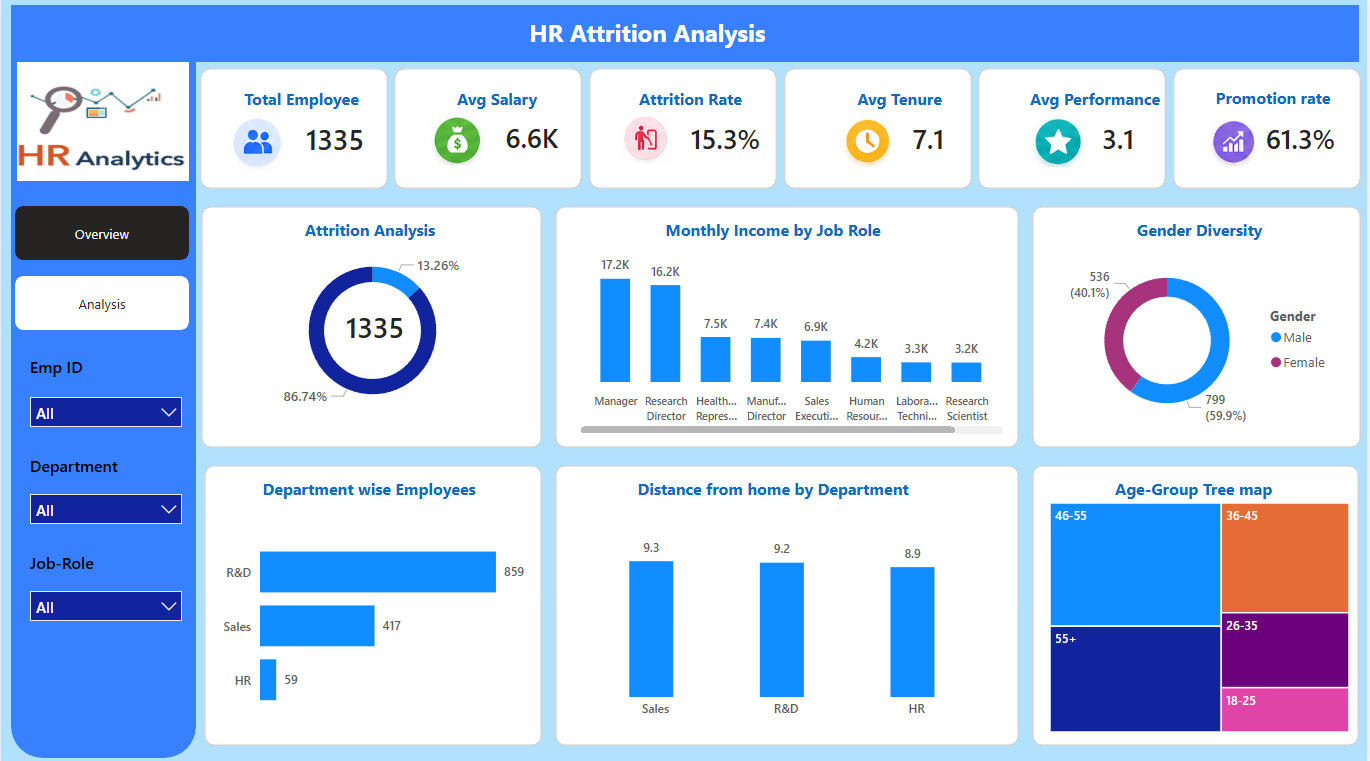

The page's visual inventory and layout, read from the dashboard file:
{"tool":"powerbi","page":{"name":"Overview ","canvas":[1366,768],"ordinal":0},"visuals":[{"type":"shape","box":[10,7,1348,57],"z":0},{"type":"shape","box":[10,63.6,184.5,696.4],"z":1000},{"type":"shape","box":[554,467,464,281],"z":2000},{"type":"textbox","box":[433.6,12.7,431.8,45.5],"z":3000},{"type":"shape","box":[198.5,70,188.2,120.9],"z":4000},{"type":"cardVisual","fields":{"Data":["Measure..Total Employee"]},"box":[281.8,110.9,104.5,56.4],"z":5000},{"type":"textbox","box":[214.5,84.5,171.8,31.8],"z":6000},{"type":"image","box":[227.3,116.4,59.1,56.4],"z":7000},{"type":"shape","box":[393.2,70,188.2,120.9],"z":8000},{"type":"cardVisual","fields":{"Data":["Measure..Avg Salary"]},"box":[483.6,103.6,90,68.2],"z":9000},{"type":"textbox","box":[410,84.5,171.8,31.8],"z":10000},{"type":"image","box":[429.1,116.4,54.5,52.7],"z":11000},{"type":"shape","box":[587.9,70,188.2,120.9],"z":12000},{"type":"cardVisual","fields":{"Data":["Measure..Attrition rate"]},"box":[671.7,110.9,104.5,56.4],"z":13000},{"type":"textbox","box":[602.6,84.5,173.6,31.8],"z":14000},{"type":"image","box":[618.1,116.4,53.6,50.9],"z":15000},{"type":"shape","box":[782.6,70,188.2,120.9],"z":16000},{"type":"cardVisual","fields":{"Data":["Measure..Avg Employee Tenure"]},"box":[891.8,112.7,68.2,50.9],"z":17000},{"type":"textbox","box":[811.8,84.5,173.6,31.8],"z":18000},{"type":"image","box":[839.1,120,52.7,48.2],"z":19000},{"type":"shape","box":[977.3,70,188.2,120.9],"z":20000},{"type":"cardVisual","fields":{"Data":["Measure..Avg Performance rating"]},"box":[1069,113,81,51],"z":21000},{"type":"textbox","box":[1007,85,174,35],"z":22000},{"type":"image","box":[1031,121,53,48],"z":23000},{"type":"shape","box":[1171.8,70,188.2,120.9],"z":24000},{"type":"cardVisual","fields":{"Data":["Measure..Promotion rate"]},"box":[1240,113,111,51],"z":25000},{"type":"textbox","box":[1185,84,174,35],"z":26000},{"type":"shape","box":[200,207.7,341,242],"z":27000},{"type":"image","box":[1206,120,53,48],"z":28000},{"type":"donutChart","fields":{"Y":["Measure..Attrition","Measure..Total Employee"]},"box":[214,244,315,177],"z":29000},{"type":"textbox","box":[282,216,174,35],"z":30000},{"type":"cardVisual","fields":{"Data":["Measure..Total Employee"]},"box":[327,305,94,45],"z":31000},{"type":"shape","box":[554,207.7,464,242],"z":32000},{"type":"columnChart","fields":{"Y":["Avg(hr_attrition_db hr_data_clean.MonthlyIncome)"],"Category":["hr_attrition_db hr_data_clean.JobRole"]},"box":[565,244,442,197],"z":33000},{"type":"textbox","box":[618,216,308,35],"z":34000},{"type":"shape","box":[1031,207.7,329,242],"z":35000},{"type":"donutChart","fields":{"Category":["hr_attrition_db hr_data_clean.Gender"],"Y":["CountNonNull(hr_attrition_db hr_data_clean.Gender)"]},"box":[1058,244,282,197],"z":36000},{"type":"textbox","box":[1071,216,255,35],"z":37000},{"type":"shape","box":[1031,467,327,281],"z":38000},{"type":"treemap","fields":{"Group":["hr_attrition_db hr_data_clean.AgeGroup"],"Values":["Avg(hr_attrition_db hr_data_clean.MonthlyIncome)"]},"box":[1044,500,309,239],"z":39000},{"type":"textbox","box":[1059,475,267,35],"z":40000},{"type":"columnChart","fields":{"Category":["hr_attrition_db hr_data_clean.Department"],"Y":["Measure..Avg Distance from home"]},"box":[571,527,428,202],"z":41000},{"type":"textbox","box":[615,475,314,35],"z":42000},{"type":"shape","box":[203,467,338,281],"z":43000},{"type":"barChart","fields":{"Category":["hr_attrition_db hr_data_clean.Department"],"Y":["CountNonNull(hr_attrition_db hr_data_clean.EmpID)"]},"box":[216,519,313,212],"z":44000},{"type":"textbox","box":[224,475,288,35],"z":45000},{"type":"pageNavigator","box":[14,208,174,124],"z":46000},{"type":"image","box":[16,64,172,119],"z":47000},{"type":"textbox","box":[24,353,156,34],"z":48000},{"type":"slicer","fields":{"Values":["hr_attrition_db hr_data_clean.Department"]},"box":[19,486,172,45],"z":49000},{"type":"textbox","box":[24,452,166,32],"z":50000},{"type":"slicer","fields":{"Values":["hr_attrition_db hr_data_clean.JobLevel"]},"box":[19,583,172,45],"z":51000},{"type":"textbox","box":[24,549,166,32],"z":52000},{"type":"slicer","fields":{"Values":["hr_attrition_db hr_data_clean.EmpID"]},"box":[19,389,172,45],"z":53000}]}

Visuals, with their boxes in screenshot pixels (x1, y1, x2, y2), scaled from the page's 1366x768 canvas onto the 1370x761 screenshot:
shape: l=10, t=7, r=1362, b=63
shape: l=10, t=63, r=195, b=753
shape: l=556, t=463, r=1021, b=741
textbox: l=435, t=13, r=868, b=58
shape: l=199, t=69, r=388, b=189
cardVisual - Measure..Total Employee: l=283, t=110, r=387, b=166
textbox: l=215, t=84, r=387, b=115
image: l=228, t=115, r=287, b=171
shape: l=394, t=69, r=583, b=189
cardVisual - Measure..Avg Salary: l=485, t=103, r=575, b=170
textbox: l=411, t=84, r=584, b=115
image: l=430, t=115, r=485, b=168
shape: l=590, t=69, r=778, b=189
cardVisual - Measure..Attrition rate: l=674, t=110, r=778, b=166
textbox: l=604, t=84, r=778, b=115
image: l=620, t=115, r=674, b=166
shape: l=785, t=69, r=974, b=189
cardVisual - Measure..Avg Employee Tenure: l=894, t=112, r=963, b=162
textbox: l=814, t=84, r=988, b=115
image: l=842, t=119, r=894, b=167
shape: l=980, t=69, r=1169, b=189
cardVisual - Measure..Avg Performance rating: l=1072, t=112, r=1153, b=163
textbox: l=1010, t=84, r=1184, b=119
image: l=1034, t=120, r=1087, b=167
shape: l=1175, t=69, r=1364, b=189
cardVisual - Measure..Promotion rate: l=1244, t=112, r=1355, b=163
textbox: l=1188, t=83, r=1363, b=118
shape: l=201, t=206, r=543, b=446
image: l=1210, t=119, r=1263, b=166
donutChart - Measure..Attrition x Measure..Total Employee: l=215, t=242, r=531, b=417
textbox: l=283, t=214, r=457, b=249
cardVisual - Measure..Total Employee: l=328, t=302, r=422, b=347
shape: l=556, t=206, r=1021, b=446
columnChart - Avg(hr_attrition_db hr_data_clean.MonthlyIncome) x hr_attrition_db hr_data_clean.JobRole: l=567, t=242, r=1010, b=437
textbox: l=620, t=214, r=929, b=249
shape: l=1034, t=206, r=1364, b=446
donutChart - hr_attrition_db hr_data_clean.Gender x CountNonNull(hr_attrition_db hr_data_clean.Gender): l=1061, t=242, r=1344, b=437
textbox: l=1074, t=214, r=1330, b=249
shape: l=1034, t=463, r=1362, b=741
treemap - hr_attrition_db hr_data_clean.AgeGroup x Avg(hr_attrition_db hr_data_clean.MonthlyIncome): l=1047, t=495, r=1357, b=732
textbox: l=1062, t=471, r=1330, b=505
columnChart - hr_attrition_db hr_data_clean.Department x Measure..Avg Distance from home: l=573, t=522, r=1002, b=722
textbox: l=617, t=471, r=932, b=505
shape: l=204, t=463, r=543, b=741
barChart - hr_attrition_db hr_data_clean.Department x CountNonNull(hr_attrition_db hr_data_clean.EmpID): l=217, t=514, r=531, b=724
textbox: l=225, t=471, r=513, b=505
pageNavigator: l=14, t=206, r=189, b=329
image: l=16, t=63, r=189, b=181
textbox: l=24, t=350, r=181, b=383
slicer - hr_attrition_db hr_data_clean.Department: l=19, t=482, r=192, b=526
textbox: l=24, t=448, r=191, b=480
slicer - hr_attrition_db hr_data_clean.JobLevel: l=19, t=578, r=192, b=622
textbox: l=24, t=544, r=191, b=576
slicer - hr_attrition_db hr_data_clean.EmpID: l=19, t=385, r=192, b=430
